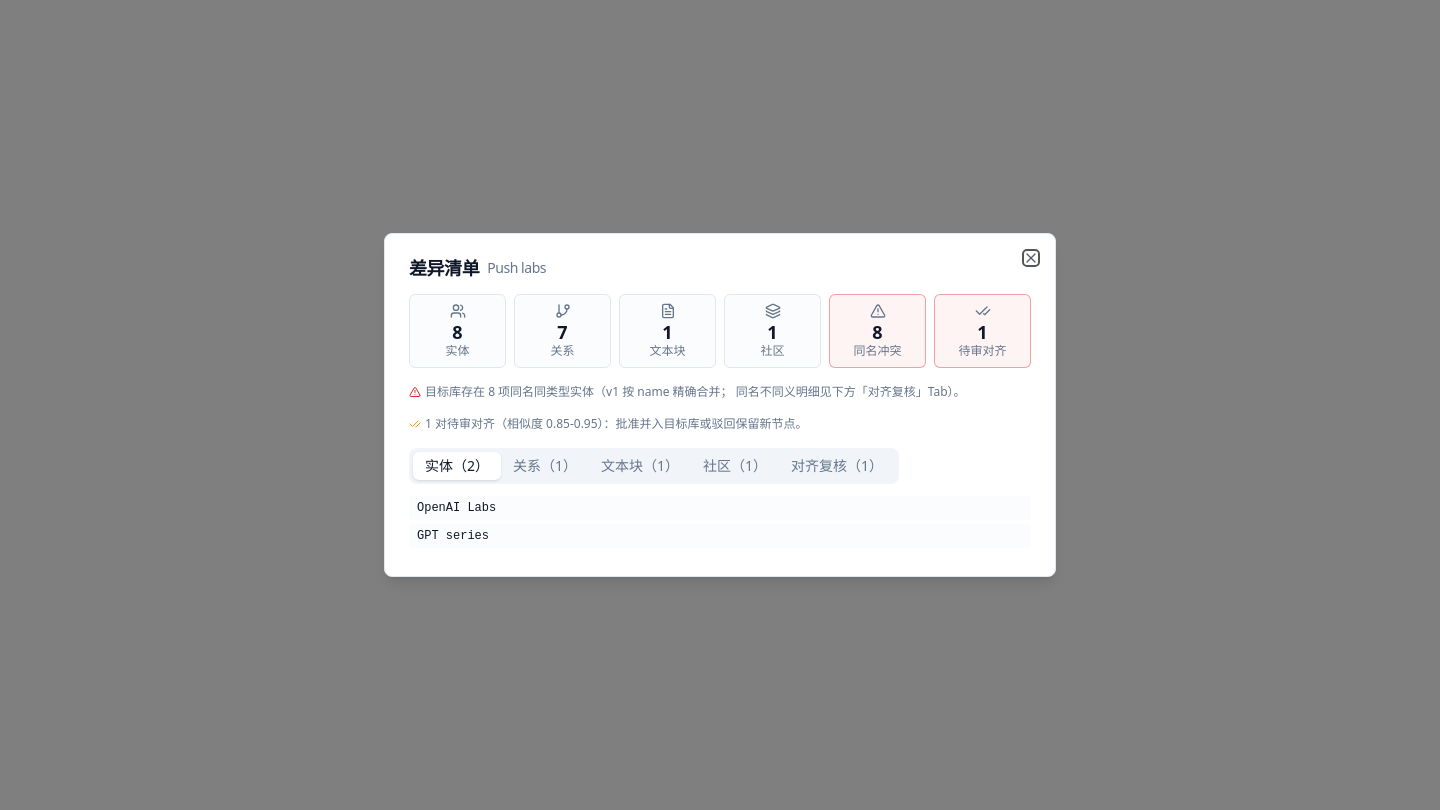
Test: ContributionDetail 对齐复核 Tab › 渲染计数卡（含待审对齐）与待审对列表（源/目标/类型/相似度/按钮）
Expected: the text "待审对齐" is shown, x1=958 y1=343 x2=1006 y2=359
Expected: the text "同名冲突" is shown, x1=854 y1=343 x2=902 y2=359
What coordinates should you click on to do the following:
click the tab "对齐复核（1）"
I would click on:
 (837, 466)
Its box is x1=779 y1=452 x2=895 y2=480.
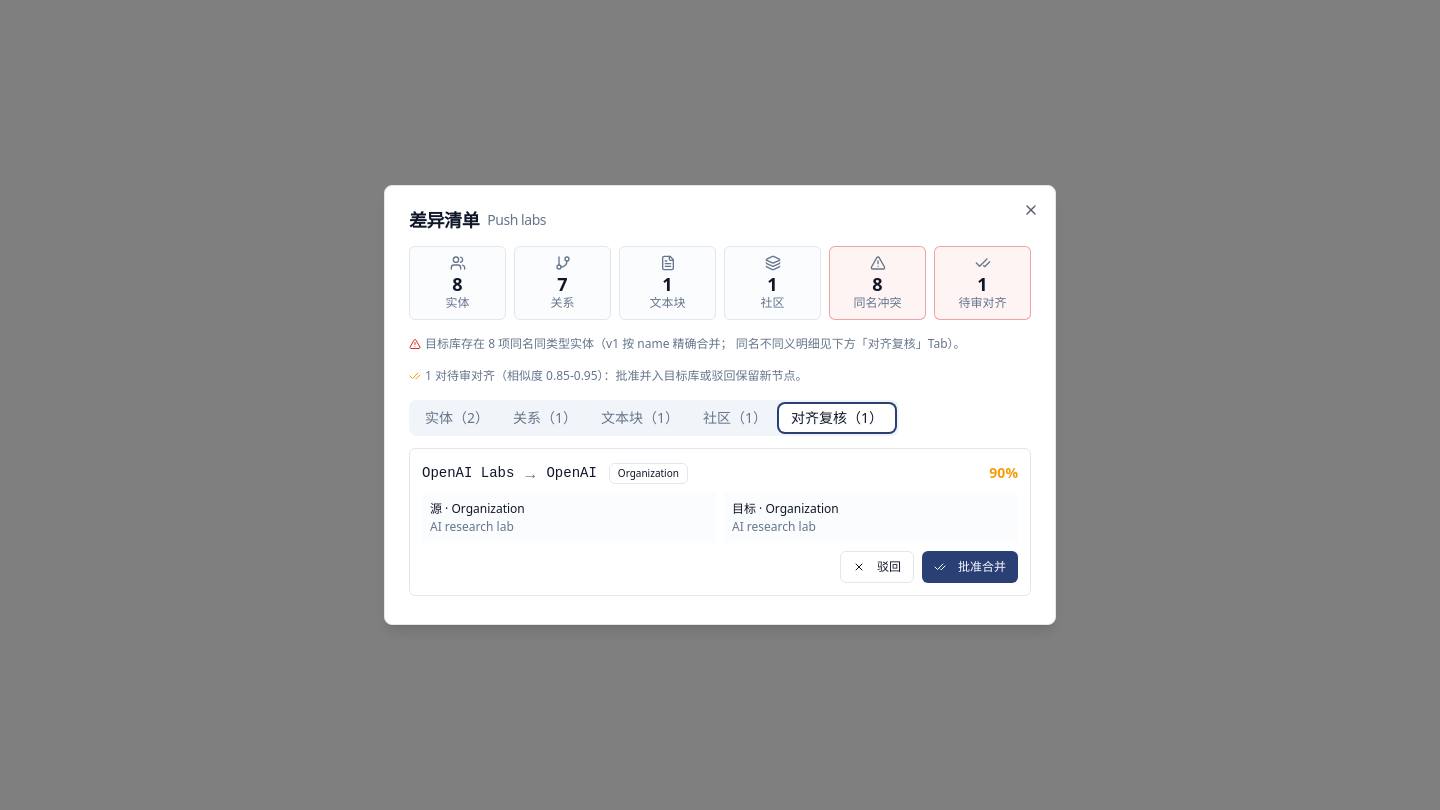
Result: the text "90%" is shown at x1=989 y1=463 x2=1018 y2=483
Result: the text "Organization" is shown at x1=609 y1=462 x2=688 y2=484
Result: the text "源 · Organization" is shown at x1=430 y1=500 x2=525 y2=517
